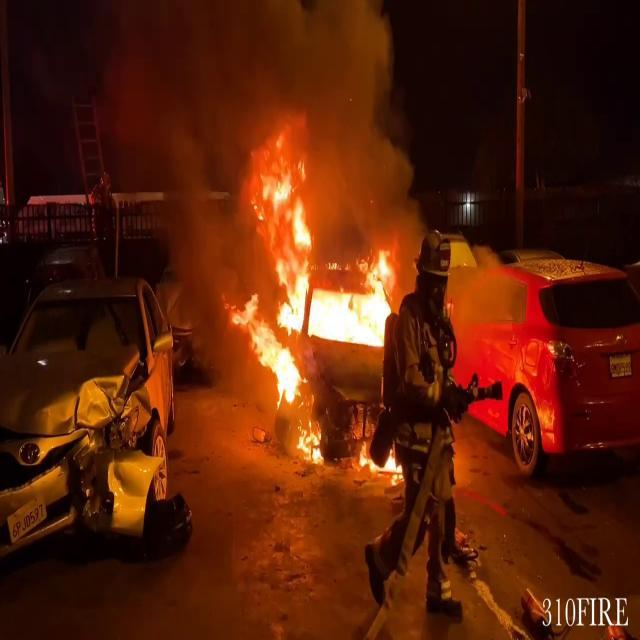Fire: (228, 145, 404, 407), (359, 439, 407, 481)
Smoke: (104, 0, 428, 267)
